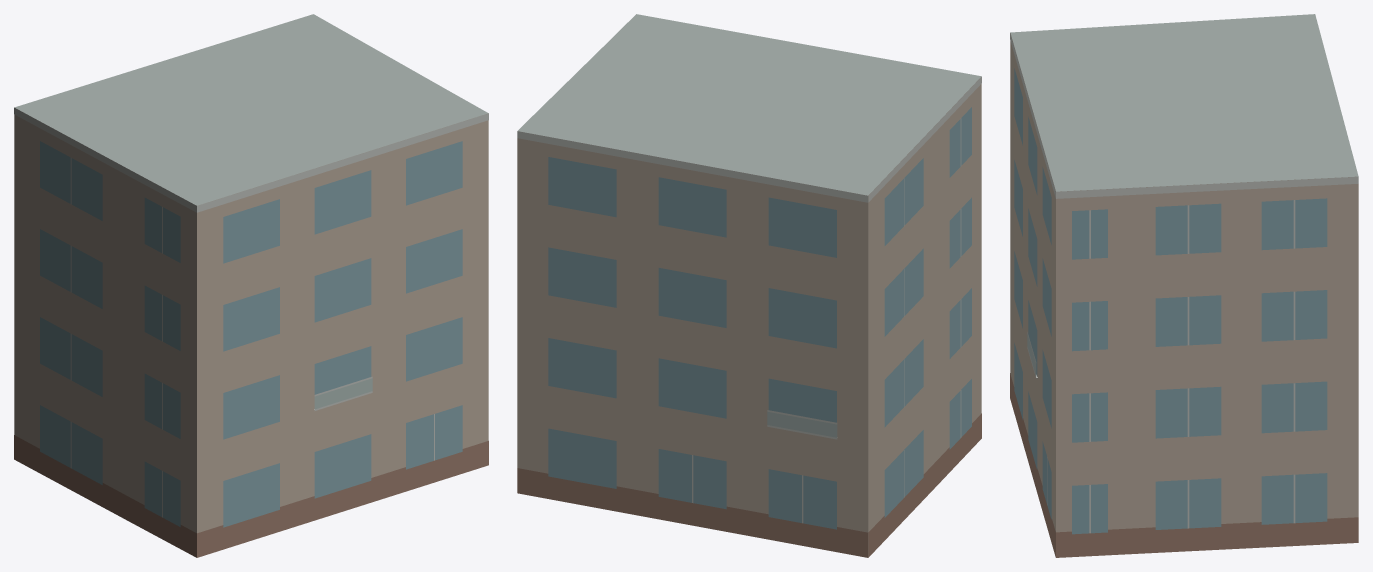
Rendered from survey-upis-32673160.glb.
The picture shows the model from 3 angles, left to right: view 1: azimuth 30°, elevation 25°; view 2: azimuth 150°, elevation 25°; view 3: azimuth 270°, elevation 25°; orthographic projection. The views are drawn at different scales.
Parts seen in each view (by area): view 1: survey-upis-32673160.tmp; view 2: survey-upis-32673160.tmp; view 3: survey-upis-32673160.tmp.
Boxes of the visible parts, x1=… form: survey-upis-32673160.tmp: x1=14, y1=14, x2=488, y2=557; survey-upis-32673160.tmp: x1=517, y1=14, x2=981, y2=557; survey-upis-32673160.tmp: x1=1010, y1=14, x2=1358, y2=557.
Bounding box in the file's own units: 12.91 × 12.4 × 10.7.
